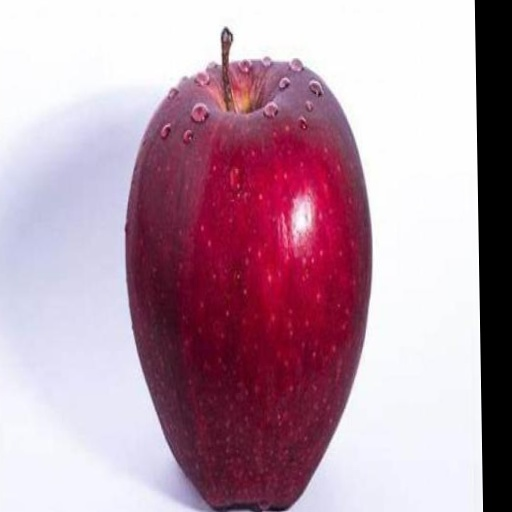fruit: (126, 30, 370, 509)
